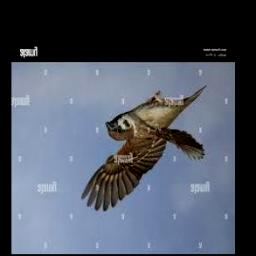Sparrow: (80, 85, 207, 211)
